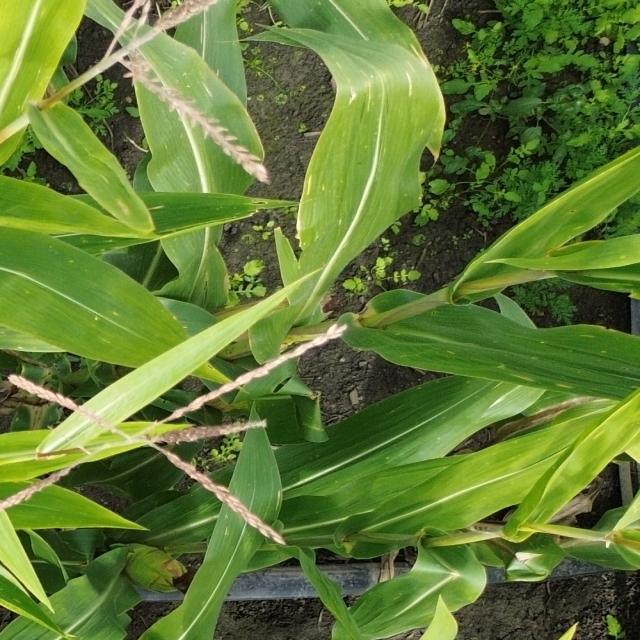gray-leaf-spot: (299, 60, 446, 262)
southern-leaf-blight: (274, 395, 470, 527), (394, 291, 630, 394), (28, 246, 140, 366), (155, 32, 215, 110)
